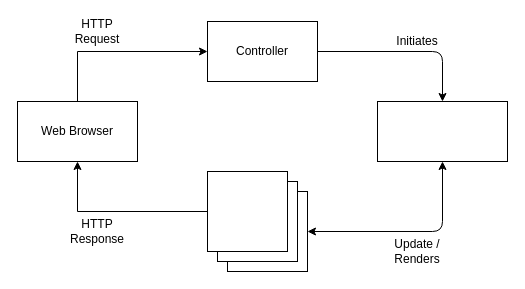
The diagram is 525 pixels wide and 289 high, and some of its shapes have lost their labels. The box of each missing label's shape, as (x1, y1, x2, y2) in pixels:
Model: (376, 100, 508, 162)
Views: (206, 170, 288, 252)
